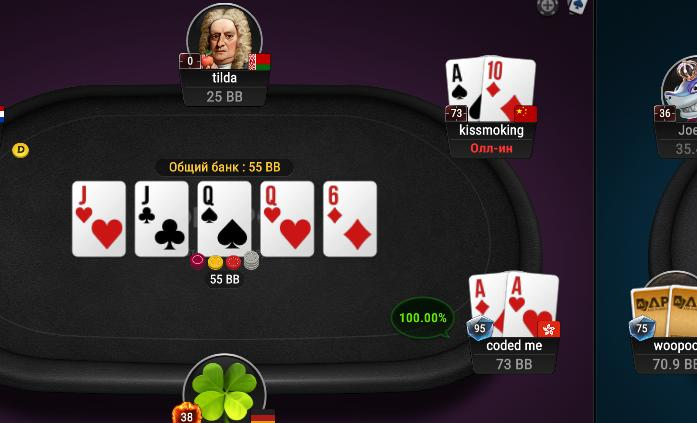10d: (483, 57, 534, 119)
6d: (324, 182, 375, 256)
Ad: (468, 272, 506, 339)
Ah: (506, 271, 559, 338)
As: (446, 59, 484, 121)
Jc: (135, 182, 190, 255)
Jh: (73, 180, 124, 256)
Qh: (261, 182, 314, 254)
Qs: (198, 181, 250, 255)
